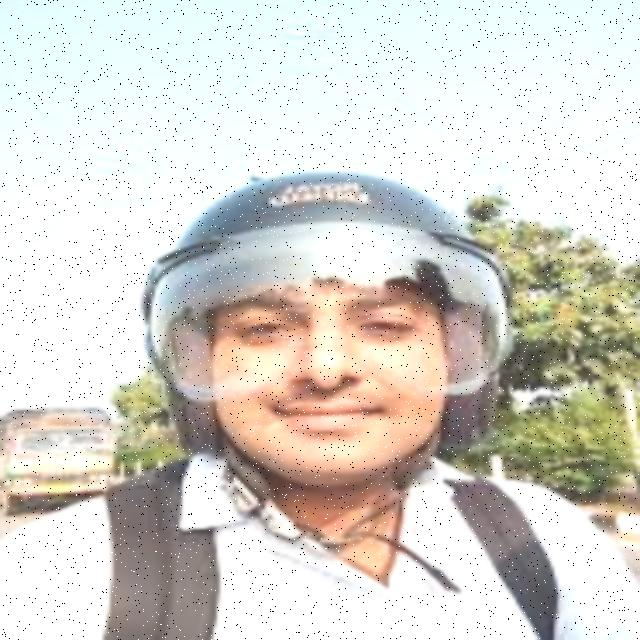with-helmet: (131, 165, 540, 493)
